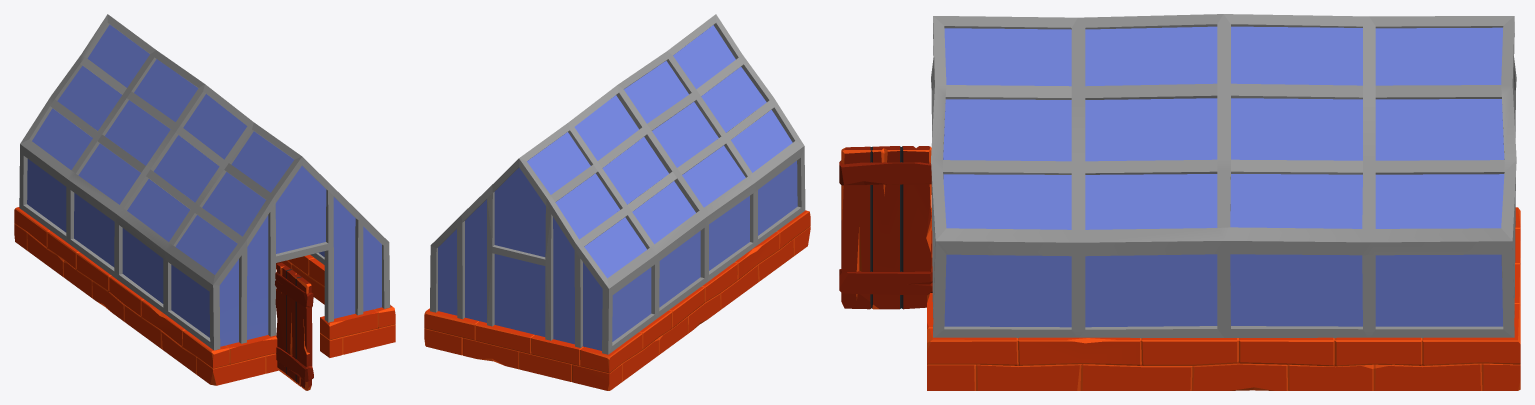
Rendered from GreenHouse.fbx.
The picture shows the model from 3 angles, left to right: view 1: azimuth 30°, elevation 25°; view 2: azimuth 150°, elevation 25°; view 3: azimuth 270°, elevation 25°; orthographic projection. The views are drawn at different scales.
Parts seen in each view (by area): view 1: GreenHouse; view 2: GreenHouse; view 3: GreenHouse.
Boxes of the visible parts, box(x1,y1,x2,y2) form: GreenHouse: box(14, 14, 395, 390); GreenHouse: box(424, 14, 810, 390); GreenHouse: box(839, 14, 1520, 390).
Size of the model in its own units: 125 by 136 by 271.
